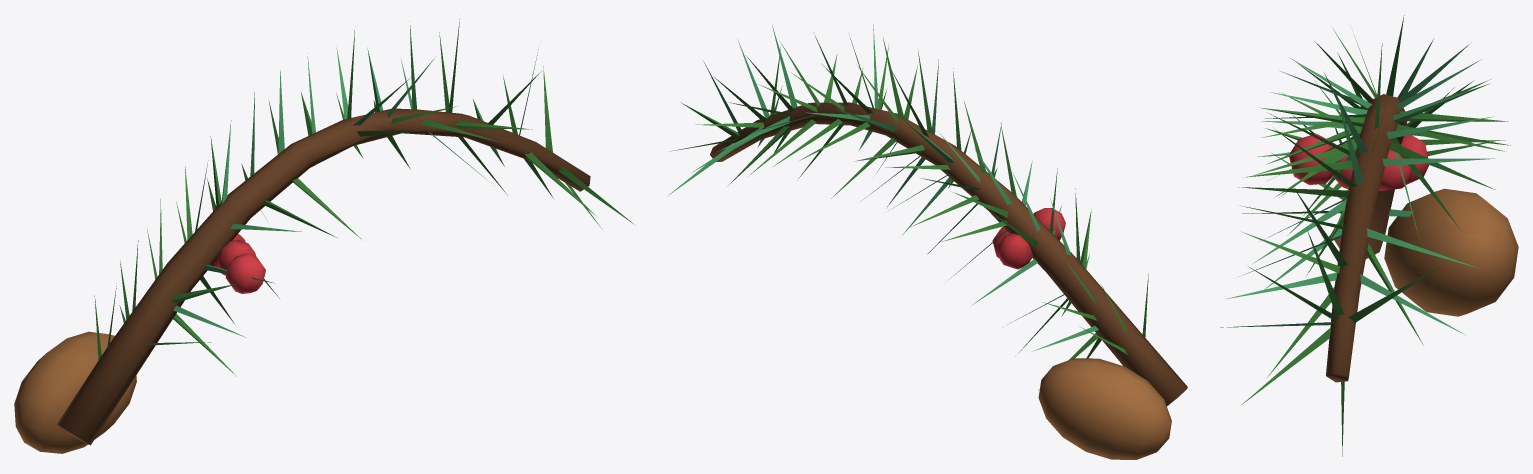
Rendered from frost_pine_sprig_lod1.glb.
3 renders of one model, left to right at view 1: azimuth 30°, elevation 25°; view 2: azimuth 150°, elevation 25°; view 3: azimuth 270°, elevation 25°, orthographic. The views are drawn at different scales.
Parts seen in each view (by area): view 1: frost_pine_sprig.001; view 2: frost_pine_sprig.001; view 3: frost_pine_sprig.001.
Part boxes in pixels (x1,y1,x2,y2): frost_pine_sprig.001: [14, 19, 634, 453]; frost_pine_sprig.001: [667, 24, 1187, 459]; frost_pine_sprig.001: [1220, 15, 1518, 456].
Bounding box in the file's own units: 9.29 × 6 × 3.5.
